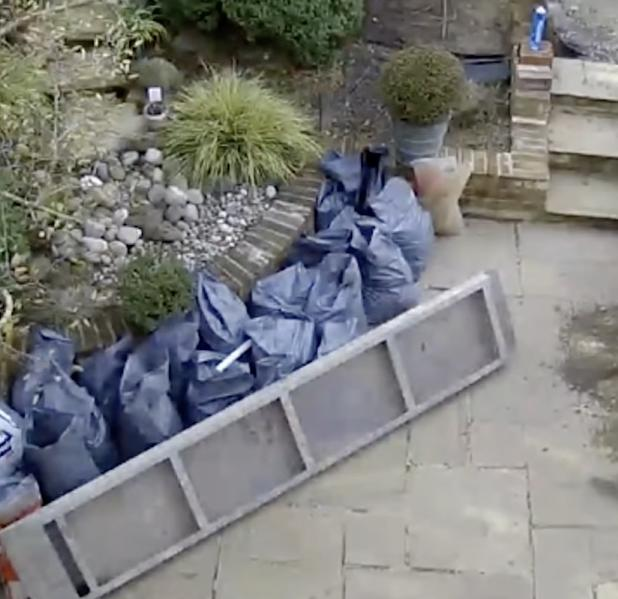NoHuman: (7, 2, 618, 586)
